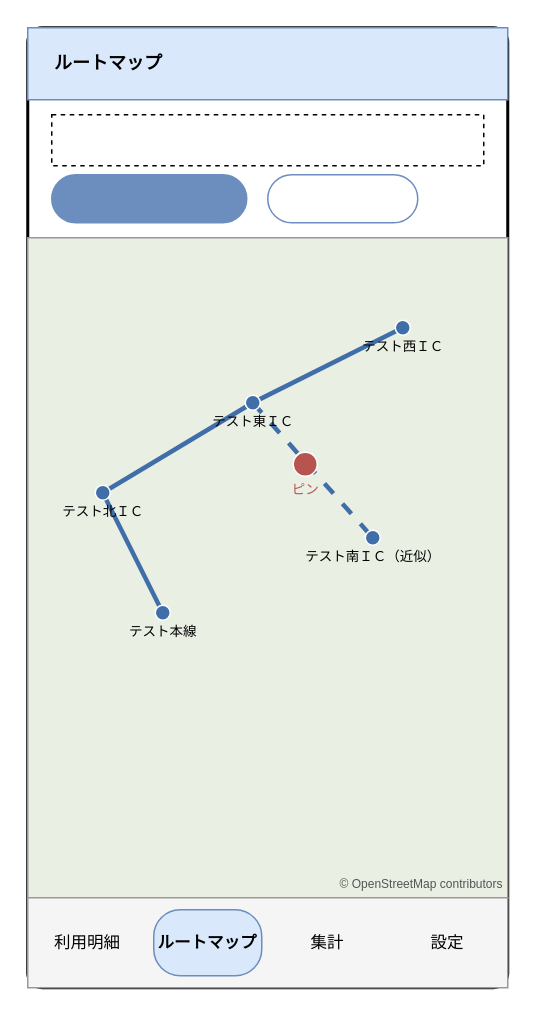
Some shapes in this 534 by 1014 pixel diagram are drawn without their labels. Each missing label, with the centre of its shape:
「テスト本線」の位置を決めます。地図をタップしてください: the point at 267,139
キャンセル: the point at 342,198
位置を登録: the point at 148,198
